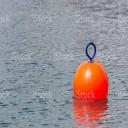red: (74, 61, 108, 101)
